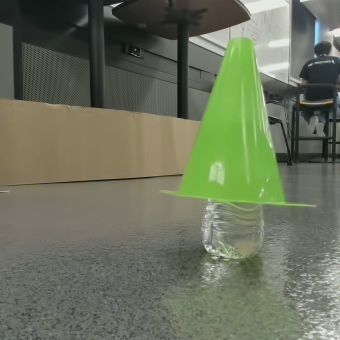Cone: (190, 31, 302, 192)
